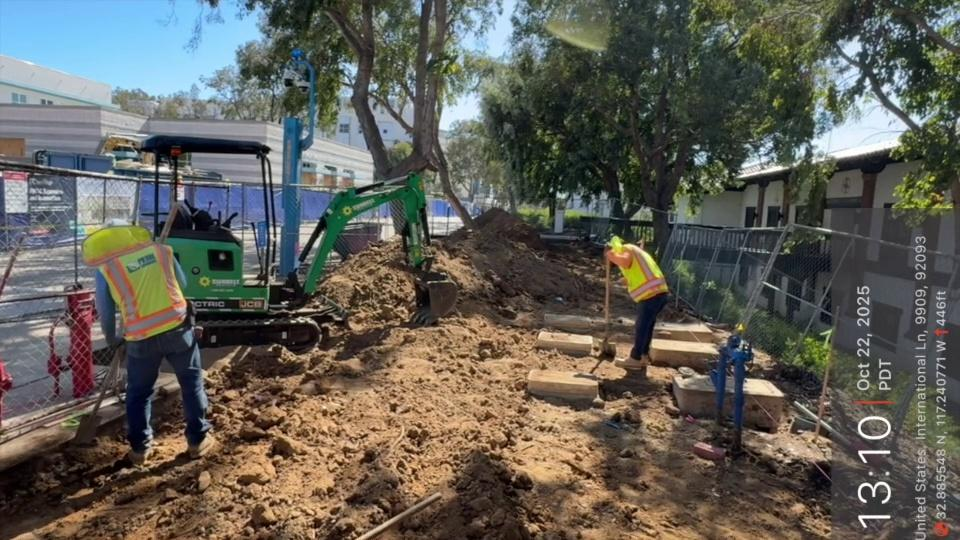Exacavator: (110, 113, 491, 354)
